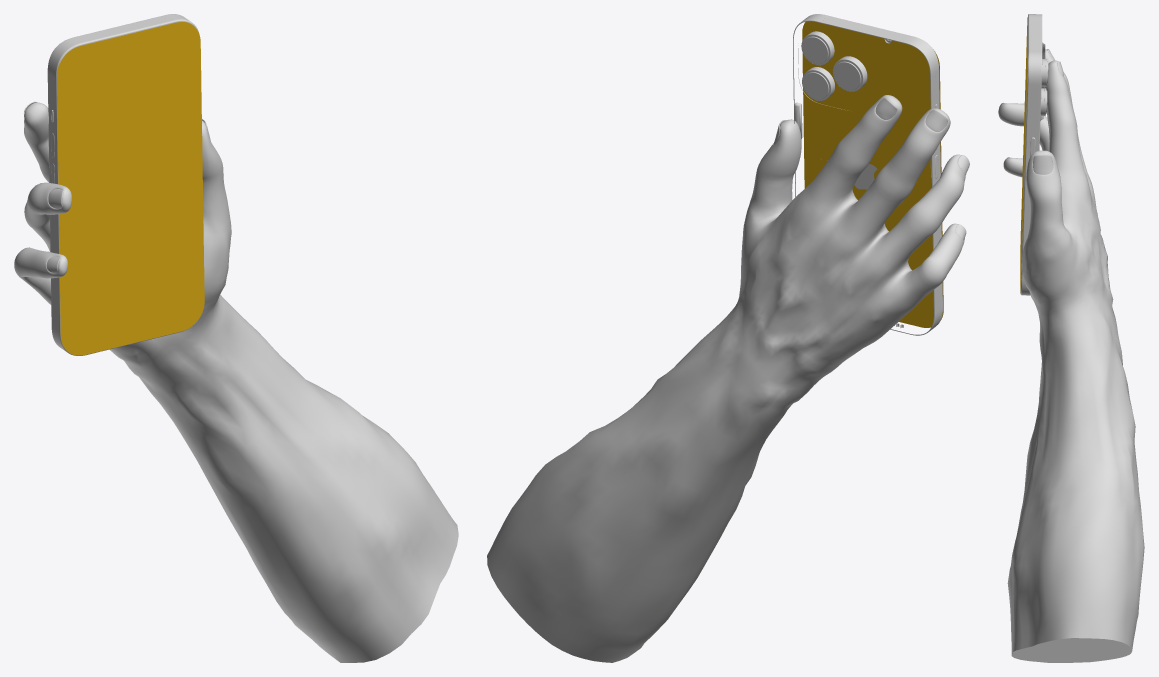
The model's file is phone-hand-final.glb.
3 views of the same model, side by side, from view 1: azimuth 30°, elevation 25°; view 2: azimuth 150°, elevation 25°; view 3: azimuth 270°, elevation 25° (orthographic). The views are drawn at different scales.
Parts seen in each view (by area): view 1: Hand, phoneScreen, Phone; view 2: Hand, phoneScreen, Phone; view 3: Hand, Phone, phoneScreen.
Boxes of the visible parts, bbox=[...] form: Hand: bbox=[14, 101, 458, 662]; phoneScreen: bbox=[57, 22, 204, 355]; Phone: bbox=[47, 14, 198, 355]; Hand: bbox=[487, 95, 969, 662]; phoneScreen: bbox=[802, 21, 943, 327]; Phone: bbox=[793, 14, 942, 335]; Hand: bbox=[998, 49, 1144, 662]; Phone: bbox=[1020, 14, 1048, 295]; phoneScreen: bbox=[1020, 17, 1027, 293].
Size of the model in its own units: 0.787 by 1.16 by 0.2821.
